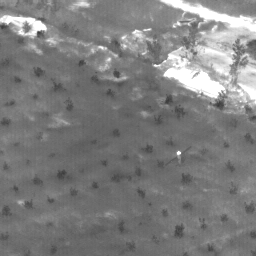aircraft: (178, 152, 180, 154)
